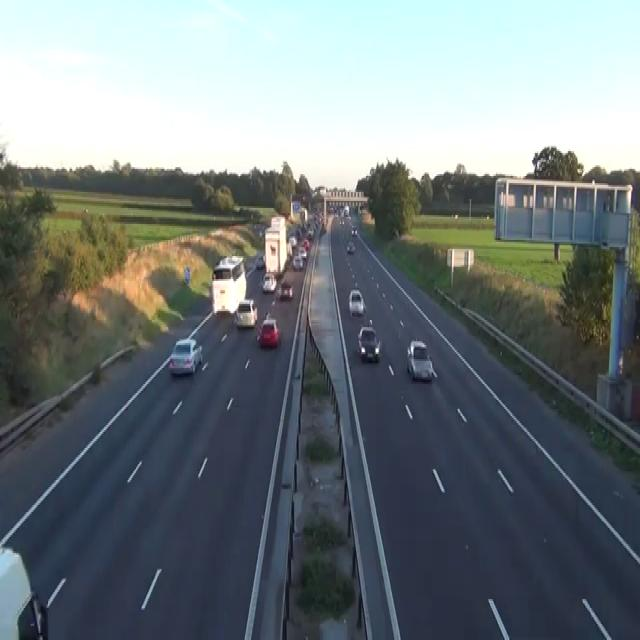Car: (0, 544, 48, 638), (168, 338, 203, 375), (406, 340, 436, 382), (357, 323, 380, 361), (256, 316, 280, 346), (233, 297, 257, 327), (348, 288, 366, 316), (275, 279, 293, 301), (262, 272, 276, 293), (253, 222, 267, 236), (292, 254, 303, 270), (183, 265, 190, 284), (256, 252, 264, 268), (298, 246, 307, 260), (346, 240, 355, 252), (289, 235, 297, 247), (302, 238, 310, 249), (343, 204, 349, 217), (328, 202, 335, 212), (336, 205, 343, 215), (320, 224, 327, 233), (392, 228, 399, 236), (351, 226, 357, 234), (340, 218, 344, 226), (347, 213, 351, 220), (259, 230, 263, 237)
Truck: (211, 254, 246, 313), (264, 215, 287, 276)
